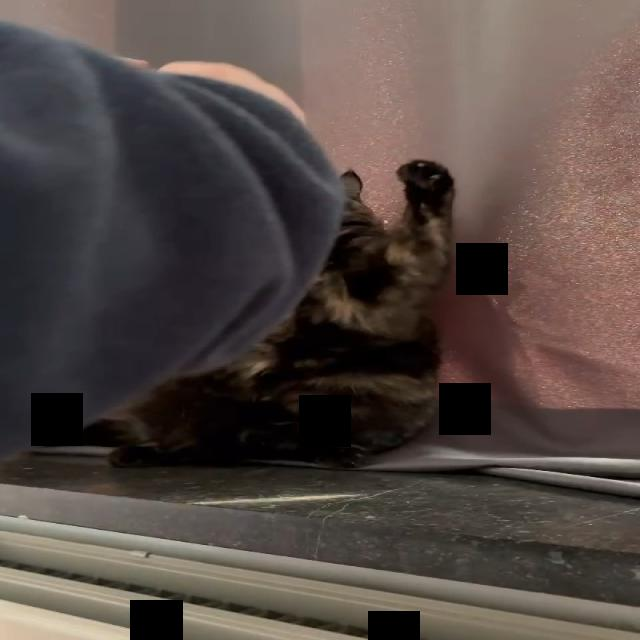authorized: (94, 158, 458, 470)
